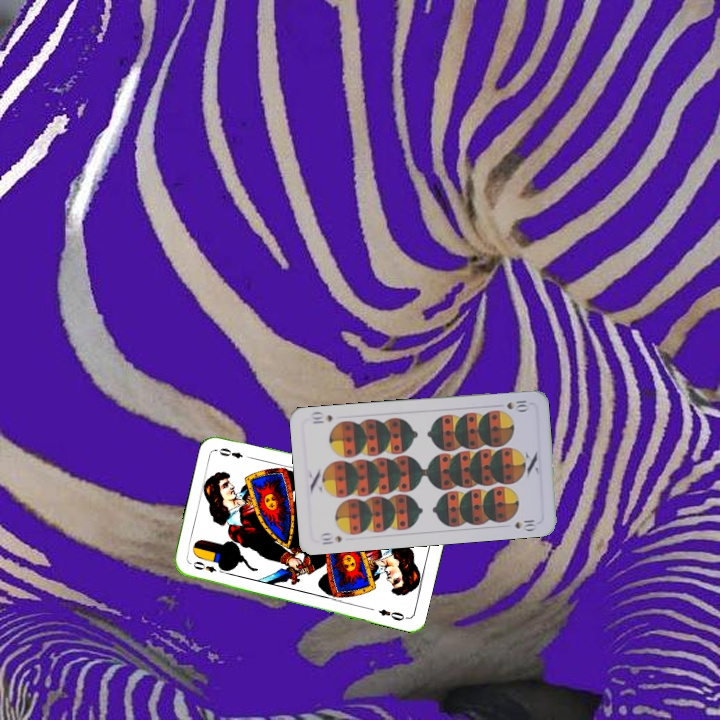EO: (189, 557, 227, 576)
S10: (316, 529, 345, 547), (503, 396, 531, 413)
